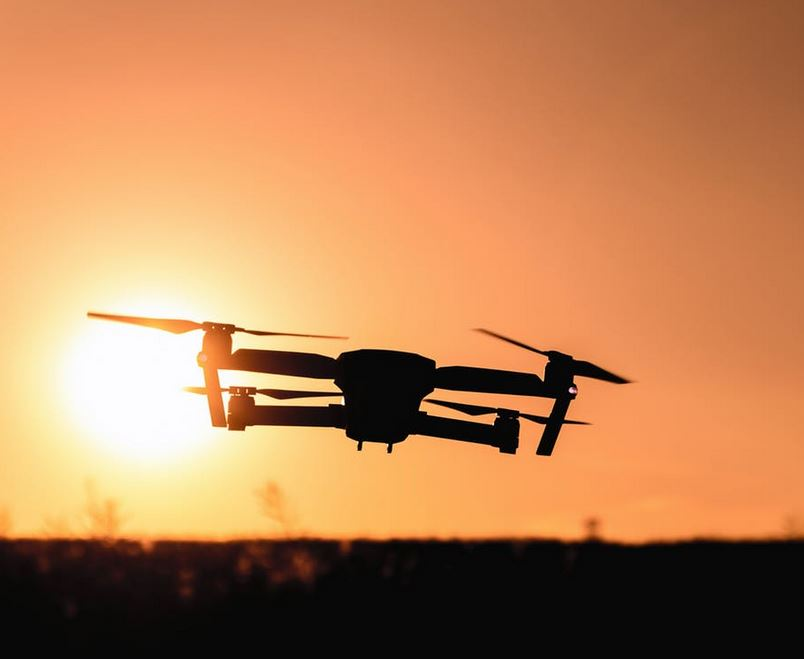drone: (85, 307, 639, 460)
